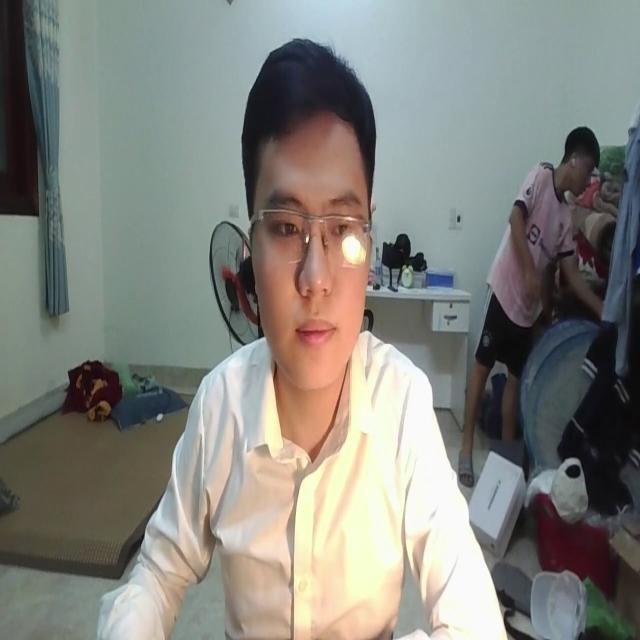extra_person: (464, 114, 597, 482)
student: (91, 37, 505, 640)
